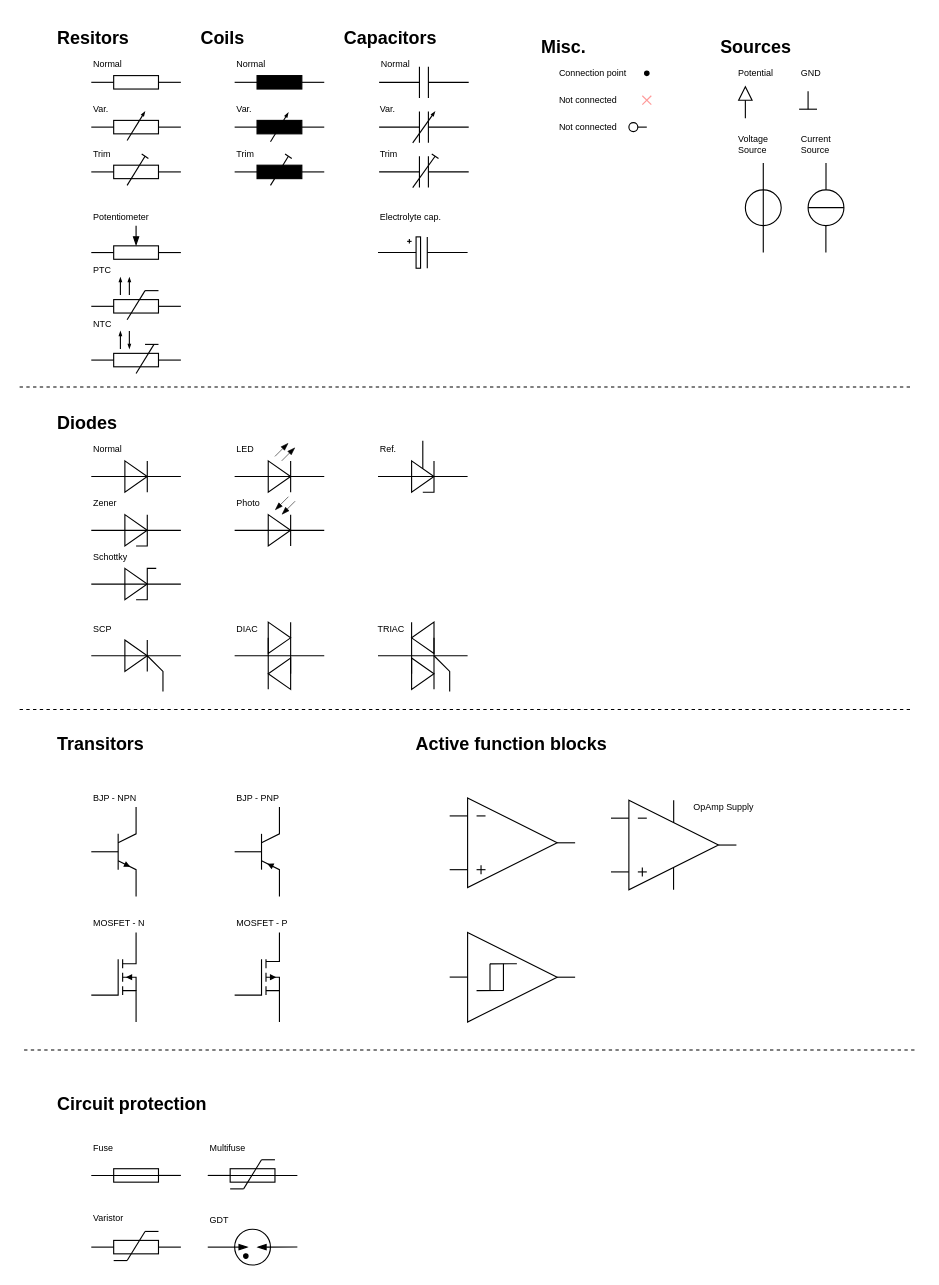
This 939x1285 diagram has some shape labels left out. The shapes that lost their labels are listed below. From the top down, each one's centre as x and y in pixels, then its label:
the point at 511,842: OpAmp
the point at 511,976: Schmitttrigger
